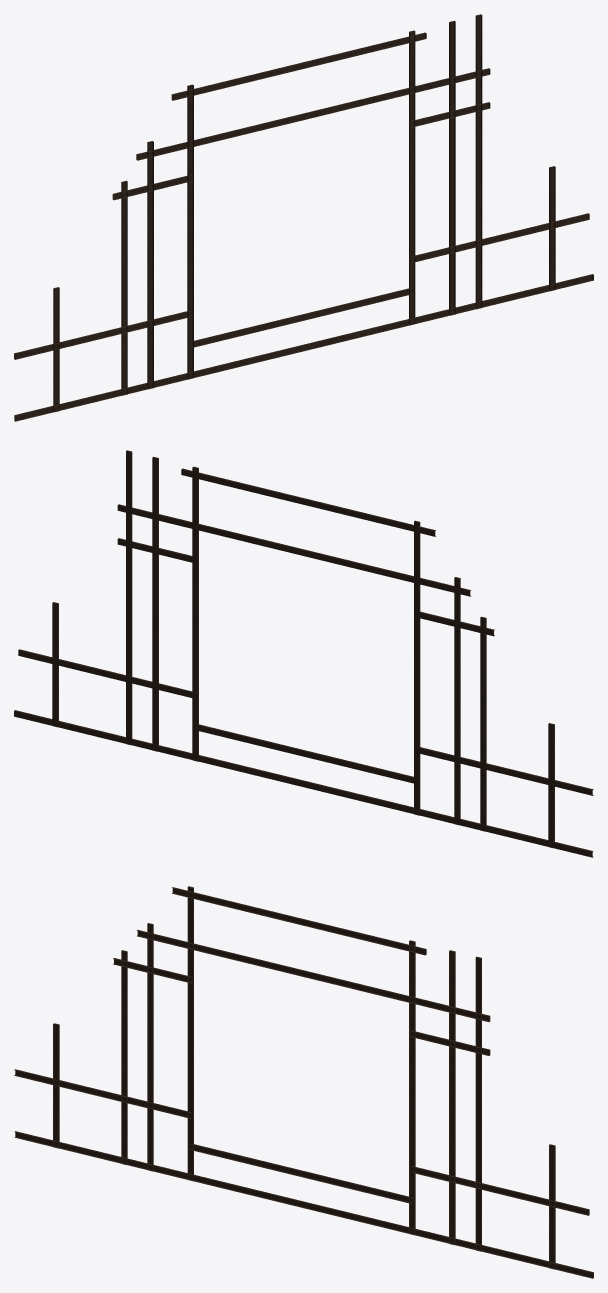
File: Extra wall 4.fbx
The picture shows the model from 3 angles, top to bottom: view 1: azimuth 30°, elevation 25°; view 2: azimuth 150°, elevation 25°; view 3: azimuth 330°, elevation 25°; orthographic projection.
Visible parts, largest first — view 1: Extra detail wood.003; view 2: Extra detail wood.003; view 3: Extra detail wood.003.
Part boxes in pixels (x1,y1,x2,y2): Extra detail wood.003: (14,14,593,421); Extra detail wood.003: (14,450,593,857); Extra detail wood.003: (14,886,593,1278).
Size of the model in its own units: 964 by 466 by 3.7.
1 material, 1 textured.
